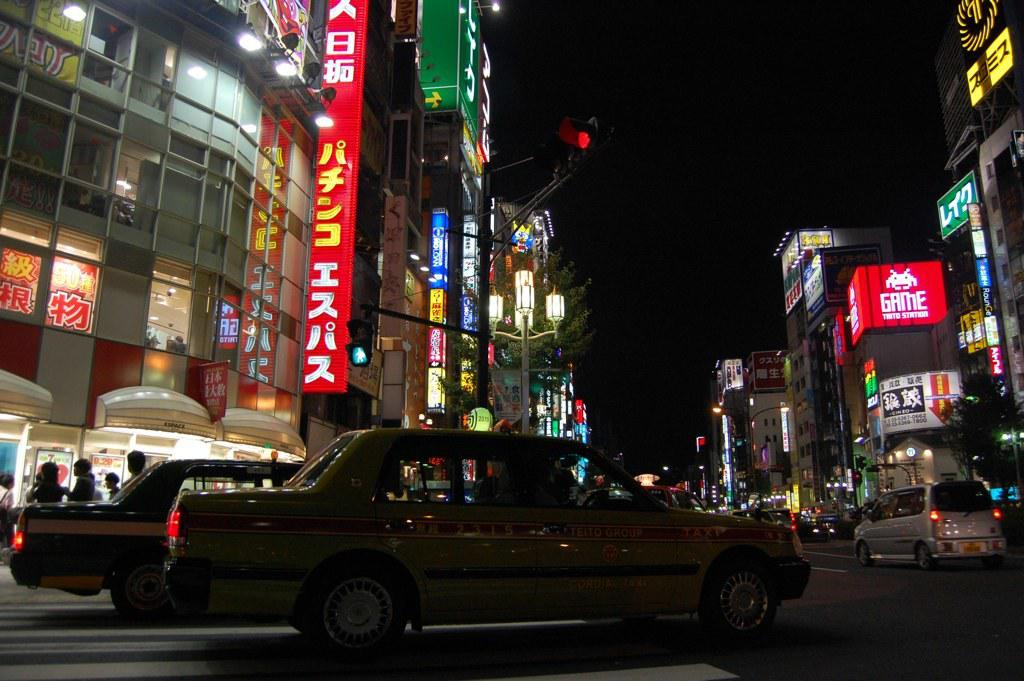taxi: (163, 427, 815, 649), (9, 460, 308, 629)
